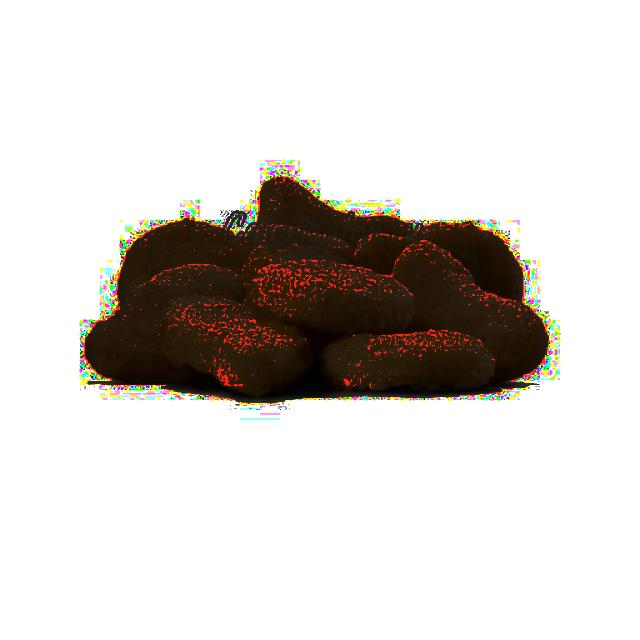chicken_nuggets: (388, 237, 558, 386), (162, 287, 306, 396), (315, 325, 502, 405), (244, 256, 408, 330)
